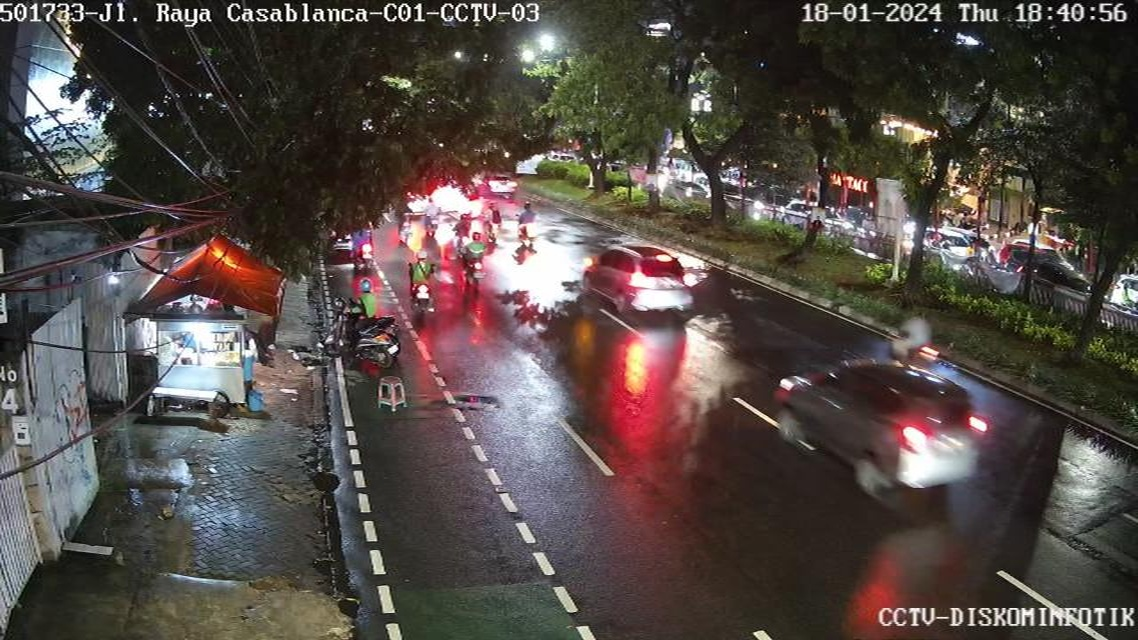Gerobak: (140, 308, 251, 419)
